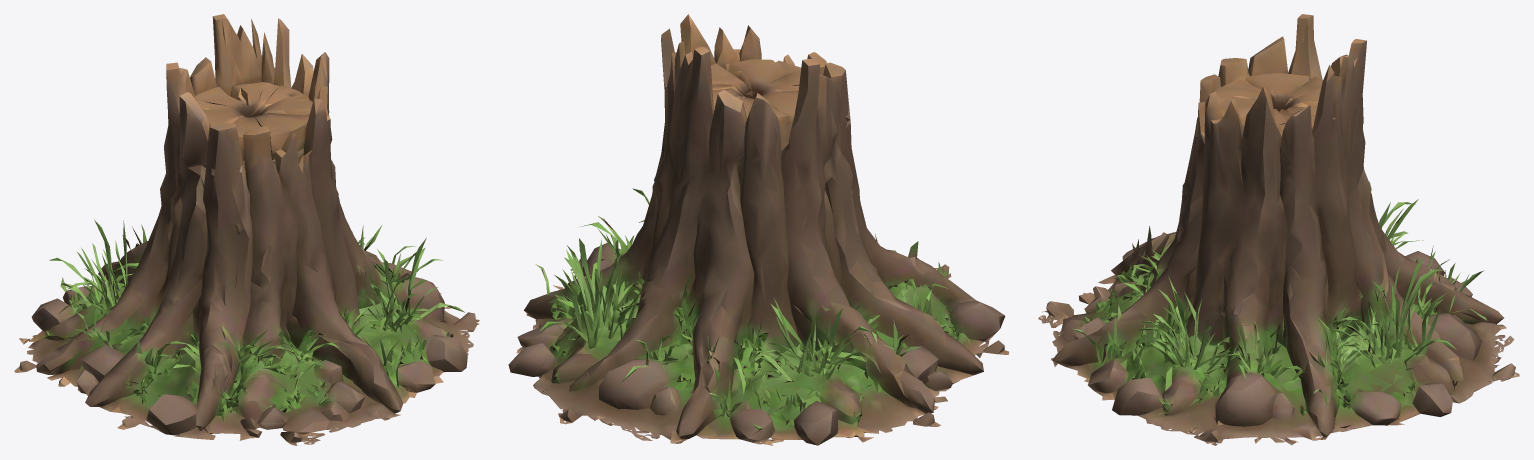
File: StumpStones.glb
The picture shows the model from 3 angles, left to right: view 1: azimuth 30°, elevation 25°; view 2: azimuth 150°, elevation 25°; view 3: azimuth 270°, elevation 25°; orthographic projection. The views are drawn at different scales.
Visible parts, largest first — view 1: StumpStones; view 2: StumpStones; view 3: StumpStones.
Part boxes in pixels (<box>): StumpStones: <box>14,14,479,445</box>; StumpStones: <box>508,14,1009,445</box>; StumpStones: <box>1038,14,1519,445</box>.
Size of the model in its own units: 1.67 by 1.19 by 1.68.
1 material, 1 textured.
